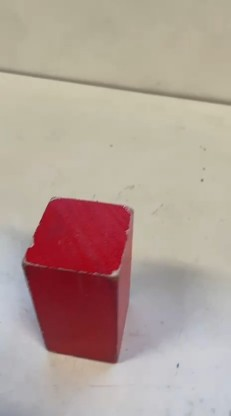red: (36, 193, 134, 357)
